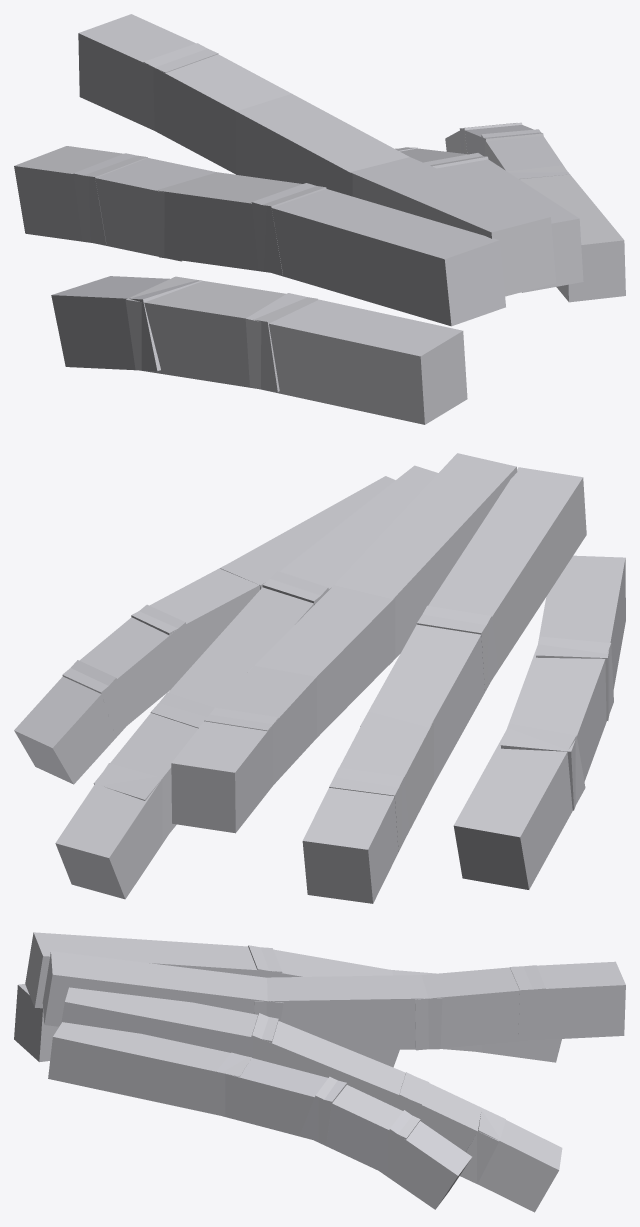
File: leapfrog_hand_right.obj
3 views of the same model, one above another, from view 1: azimuth 30°, elevation 25°; view 2: azimuth 150°, elevation 25°; view 3: azimuth 270°, elevation 25° (orthographic). The views are drawn at different scales.
Bounding box in the file's own units: 0.1133 × 0.0553 × 0.1536.
1 material, 1 textured.
